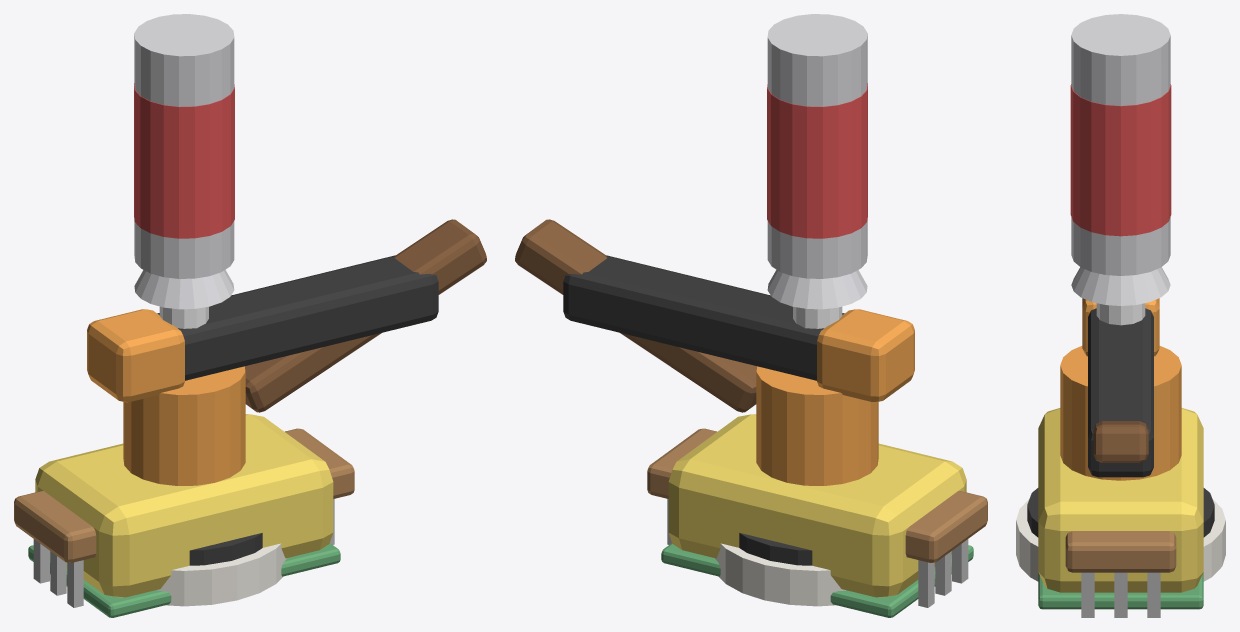
The model's file is tools.glb.
3 renders of one model, left to right at view 1: azimuth 30°, elevation 25°; view 2: azimuth 150°, elevation 25°; view 3: azimuth 270°, elevation 25°, orthographic.
Parts seen in each view (by area): view 1: ToolPolish, ToolSponge, ToolSpray, ToolBrush, ToolPolishPad; view 2: ToolPolish, ToolSponge, ToolSpray, ToolBrush, ToolPolishPad; view 3: ToolSpray, ToolSponge, ToolPolish, ToolBrush, ToolPolishPad.
Boxes of the visible parts, bbox=[...] form: ToolPolish: bbox=[87, 255, 438, 565]; ToolSponge: bbox=[28, 414, 340, 617]; ToolSpray: bbox=[134, 14, 234, 328]; ToolBrush: bbox=[14, 219, 486, 607]; ToolPolishPad: bbox=[156, 543, 286, 606]; ToolPolish: bbox=[563, 255, 914, 565]; ToolSponge: bbox=[661, 414, 973, 617]; ToolSpray: bbox=[767, 14, 867, 328]; ToolBrush: bbox=[515, 219, 987, 607]; ToolPolishPad: bbox=[715, 543, 845, 606]; ToolSpray: bbox=[1070, 14, 1171, 325]; ToolSponge: bbox=[1038, 408, 1203, 609]; ToolPolish: bbox=[1027, 298, 1214, 537]; ToolBrush: bbox=[1065, 421, 1176, 617]; ToolPolishPad: bbox=[1016, 499, 1225, 581].
Bounding box in the file's own units: 0.4517 × 0.52 × 0.19.
